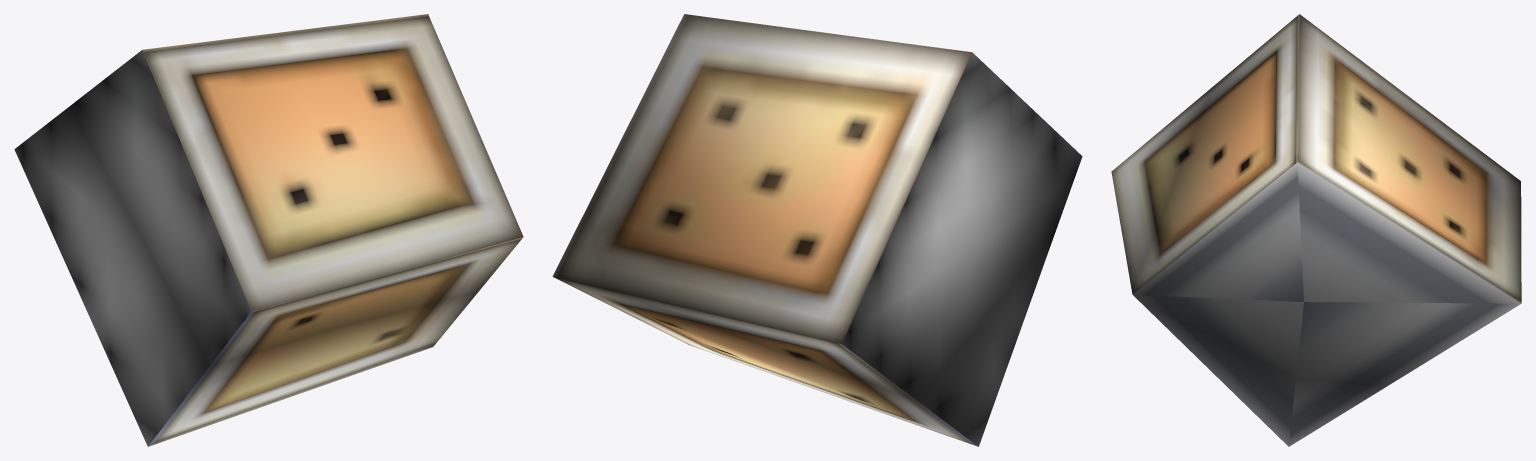
The model's file is sfx_weapon_glorb_A0007_R.glb.
3 renders of one model, left to right at view 1: azimuth 30°, elevation 25°; view 2: azimuth 150°, elevation 25°; view 3: azimuth 270°, elevation 25°, orthographic. The views are drawn at different scales.
Visible parts, largest first — view 1: sfx_weapon_glorb_A0007_R_obj1; view 2: sfx_weapon_glorb_A0007_R_obj1; view 3: sfx_weapon_glorb_A0007_R_obj1.
Part boxes in pixels (<box>): sfx_weapon_glorb_A0007_R_obj1: <box>14,14,523,446</box>; sfx_weapon_glorb_A0007_R_obj1: <box>552,14,1082,446</box>; sfx_weapon_glorb_A0007_R_obj1: <box>1111,14,1521,446</box>.
Size of the model in its own units: 0.148 by 0.1916 by 0.2099.
1 material, 1 textured.
